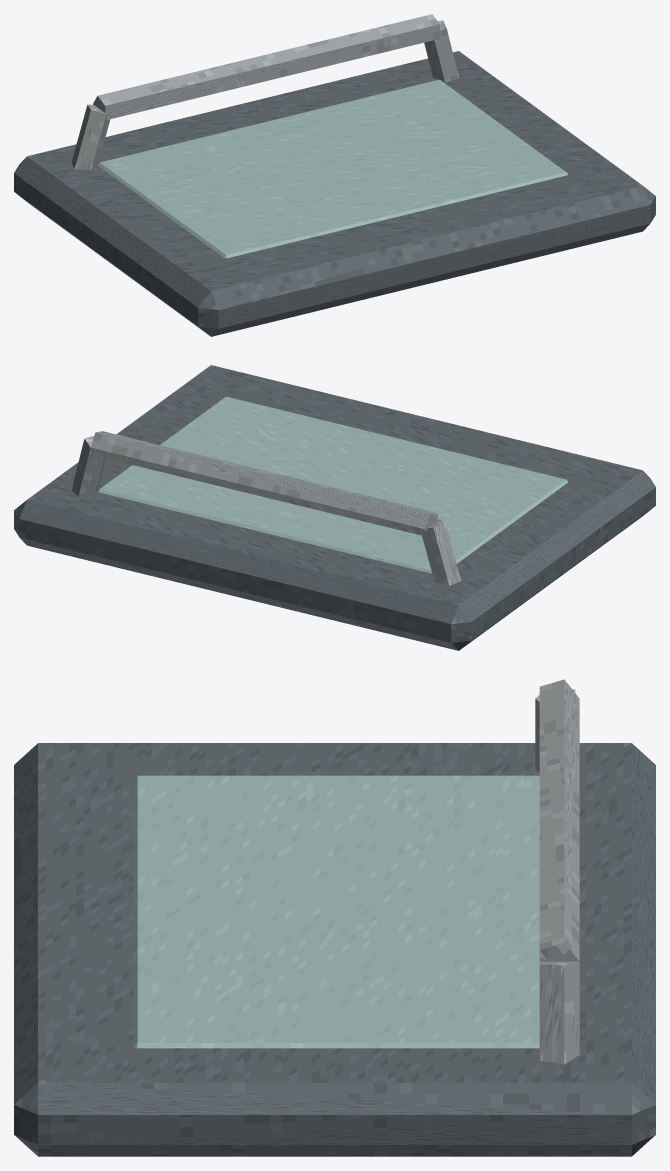
Rendered from oven_door.glb.
3 renders of one model, top to bottom at view 1: azimuth 30°, elevation 25°; view 2: azimuth 150°, elevation 25°; view 3: azimuth 270°, elevation 25°, orthographic. The views are drawn at different scales.
Parts seen in each view (by area): view 1: block_enameled stove panel, block_glass oven viewing window, block_door bar handle 1, block_door bar handle 0, block_door bar handle 2; view 2: block_enameled stove panel, block_glass oven viewing window, block_door bar handle 1, block_door bar handle 0, block_door bar handle 2; view 3: block_enameled stove panel, block_glass oven viewing window, block_door bar handle 1, block_door bar handle 2.
Boxes of the visible parts, box(x1,y1,x2,y2) form: block_enameled stove panel: box(14, 51, 655, 336); block_glass oven viewing window: box(97, 79, 567, 258); block_door bar handle 1: box(93, 14, 439, 119); block_door bar handle 0: box(71, 104, 110, 169); block_door bar handle 2: box(424, 20, 459, 81); block_enameled stove panel: box(14, 365, 655, 650); block_glass oven viewing window: box(98, 396, 568, 573); block_door bar handle 1: box(90, 431, 437, 535); block_door bar handle 0: box(420, 519, 461, 585); block_door bar handle 2: box(71, 436, 105, 496); block_enameled stove panel: box(14, 743, 655, 1156); block_glass oven viewing window: box(133, 775, 539, 1048); block_door bar handle 1: box(539, 679, 579, 961); block_door bar handle 2: box(539, 961, 579, 1064).
Size of the model in its own units: 0.69 by 0.1578 by 0.5199.
1 material, 1 textured.
